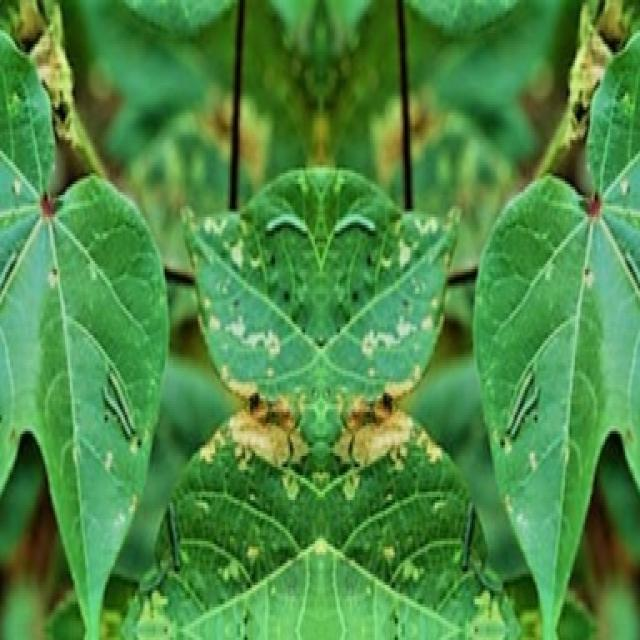armyworm: (98, 366, 140, 453), (506, 363, 540, 449), (332, 212, 378, 246), (265, 211, 309, 244)
